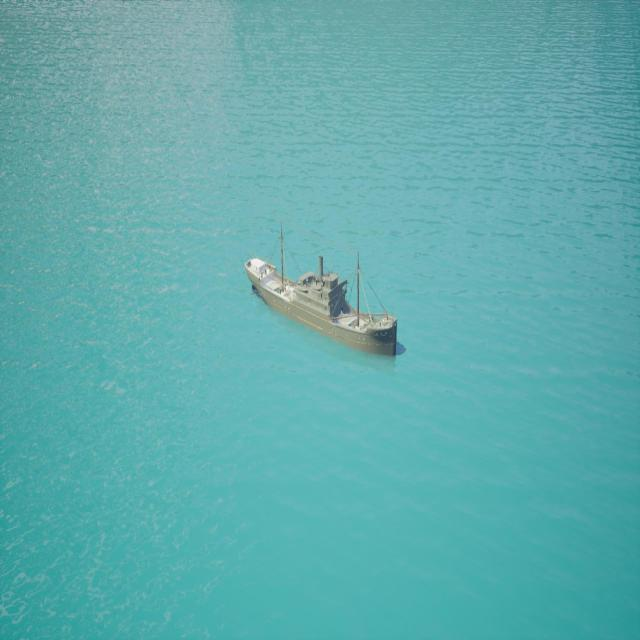fishing ship: (244, 253, 402, 362)
